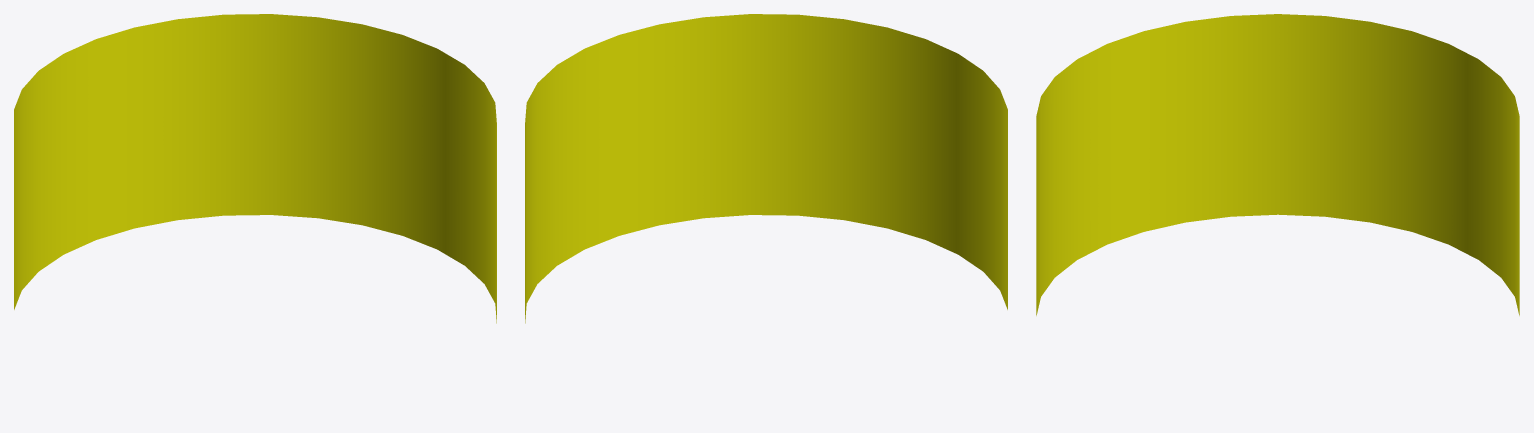
3 views of the same model, side by side, from view 1: azimuth 30°, elevation 25°; view 2: azimuth 150°, elevation 25°; view 3: azimuth 270°, elevation 25° (orthographic).
Parts seen in each view (by area): view 1: Glow; view 2: Glow; view 3: Glow.
Part boxes in pixels (<box>): Glow: <box>14,14,496,323</box>; Glow: <box>525,14,1007,323</box>; Glow: <box>1036,14,1519,315</box>.
Size of the model in its own units: 0.6401 by 0.2934 by 0.6401.
1 material, 1 textured.
